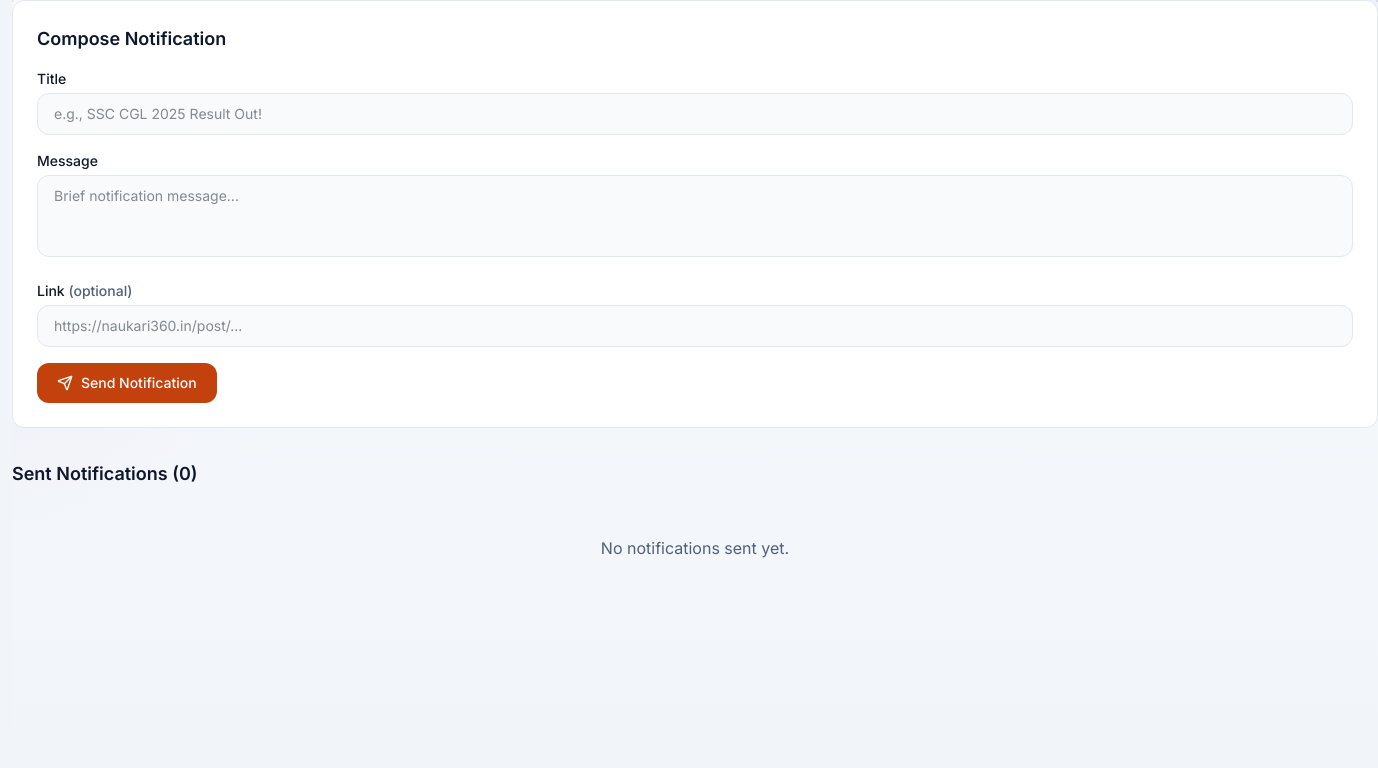
Test: NotificationComposer › shows error when send fails
Step 1. Type "Test" into the field with placeholder "e.g., SSC CGL 2025 Result Out!" → (695,114), box 37,93 -> 1353,135
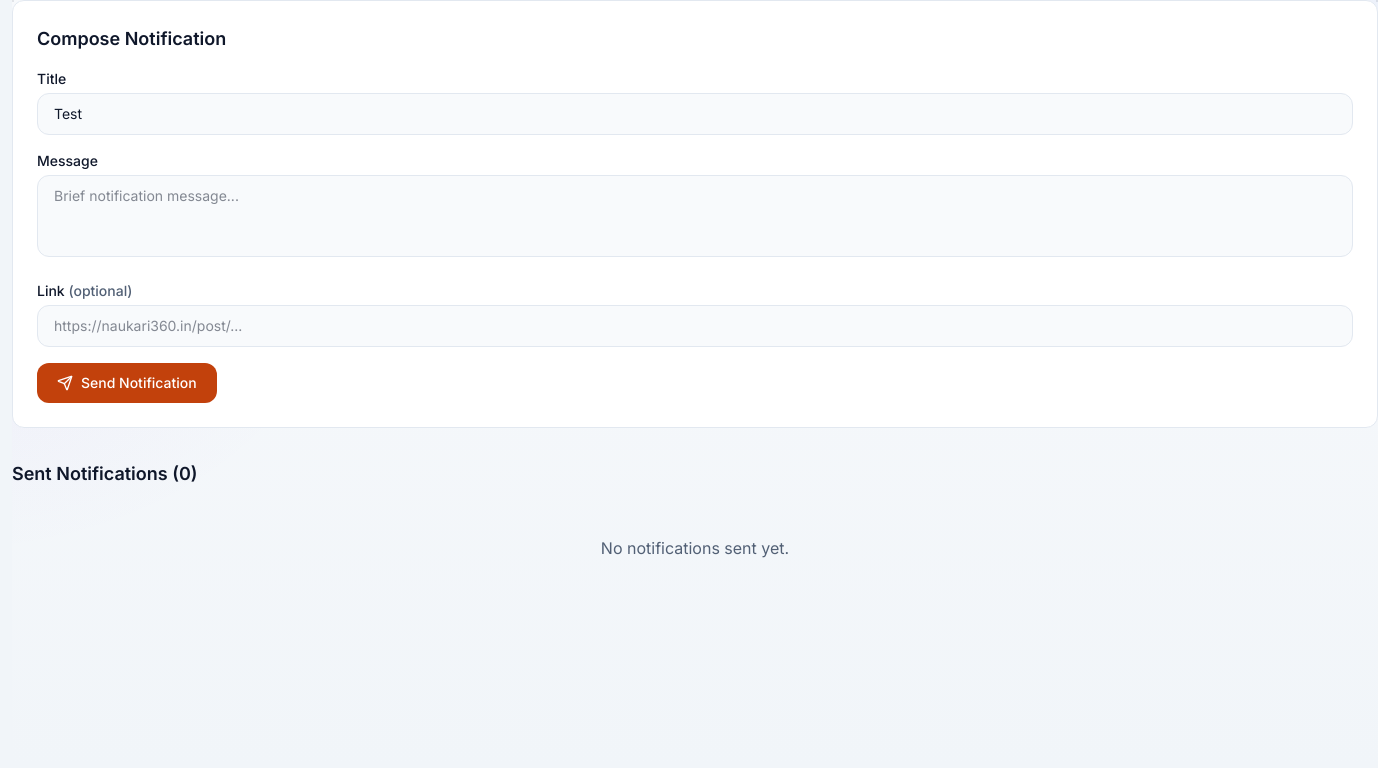
Step 2. Type "Test message" into the text box with placeholder "Brief notification message..." → (695,216), box 37,175 -> 1353,257
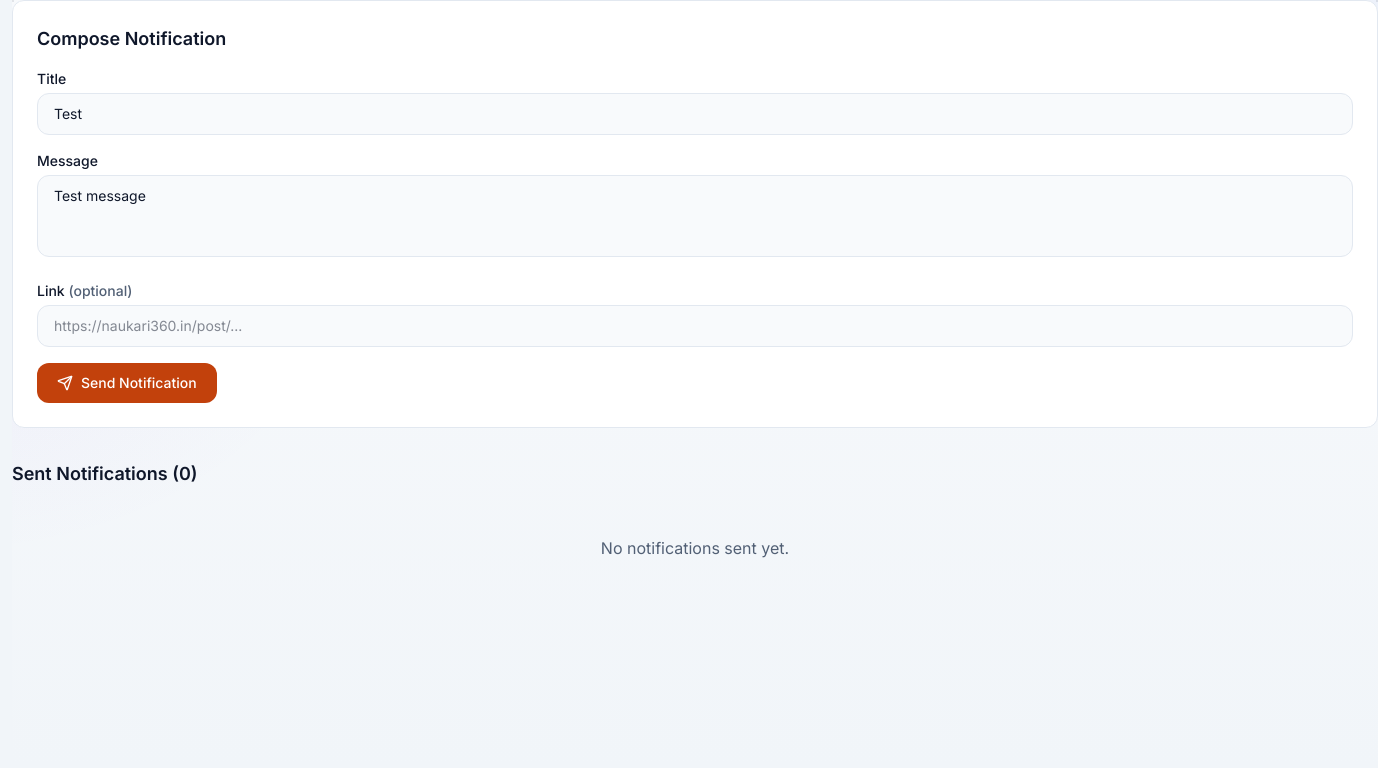
Step 3. Click the button "Send Notification" → (127,383), box 37,363 -> 217,403
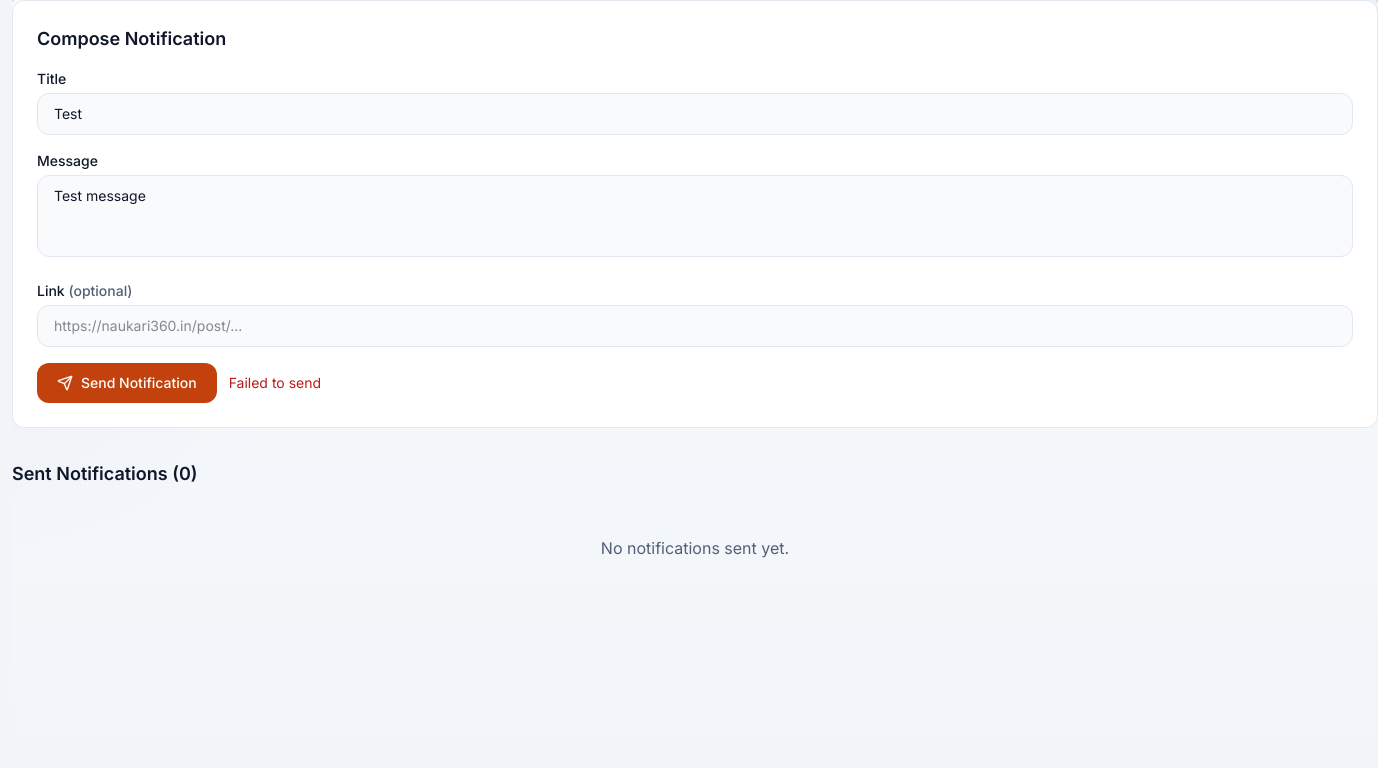
Check: the text "Failed to send" is shown, box 229,373 -> 321,393
